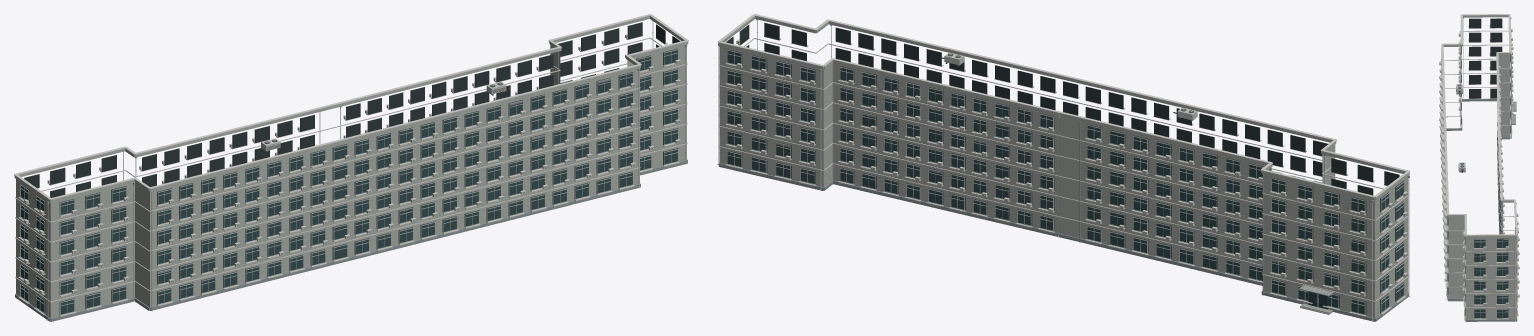
File: osm_way_223859846.glb
3 renders of one model, left to right at view 1: azimuth 30°, elevation 25°; view 2: azimuth 150°, elevation 25°; view 3: azimuth 270°, elevation 25°, orthographic. The views are drawn at different scales.
Parts seen in each view (by area): view 1: Windows and facade details | 21 国防生楼, Architecture | 21 国防生楼, Roof services | 21 国防生楼, EXTERIOR::osm_way_223859846::rainwater and roof service deta; view 2: Windows and facade details | 21 国防生楼, Architecture | 21 国防生楼, Roof services | 21 国防生楼, EXTERIOR::osm_way_223859846::rainwater and roof service deta, EXTERIOR::osm_way_223859846::inferred entry doors canopy and; view 3: Architecture | 21 国防生楼, Windows and facade details | 21 国防生楼, Roof services | 21 国防生楼, EXTERIOR::osm_way_223859846::rainwater and roof service deta, EXTERIOR::osm_way_223859846::inferred entry doors canopy and.
Part boxes in pixels (x1,y1,x2,y2): Windows and facade details | 21 国防生楼: [18, 22, 680, 316]; Architecture | 21 国防生楼: [14, 16, 688, 321]; Roof services | 21 国防生楼: [14, 14, 688, 199]; EXTERIOR::osm_way_223859846::rainwater and roof service deta: [46, 20, 687, 320]; Windows and facade details | 21 国防生楼: [725, 22, 1407, 316]; Architecture | 21 国防生楼: [718, 16, 1409, 321]; Roof services | 21 国防生楼: [717, 14, 1410, 197]; EXTERIOR::osm_way_223859846::rainwater and roof service deta: [717, 19, 1410, 321]; EXTERIOR::osm_way_223859846::inferred entry doors canopy and: [1299, 283, 1333, 314]; Architecture | 21 国防生楼: [1443, 15, 1517, 321]; Windows and facade details | 21 国防生楼: [1439, 18, 1519, 319]; Roof services | 21 国防生楼: [1441, 14, 1517, 235]; EXTERIOR::osm_way_223859846::rainwater and roof service deta: [1446, 17, 1516, 321]; EXTERIOR::osm_way_223859846::inferred entry doors canopy and: [1511, 101, 1516, 124].
Size of the model in its own units: 109 by 20.58 by 16.55.
